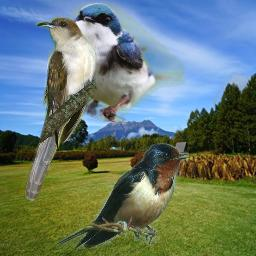Cuckoo: (24, 17, 98, 201)
Swallow: (48, 2, 185, 122), (55, 143, 189, 249)
